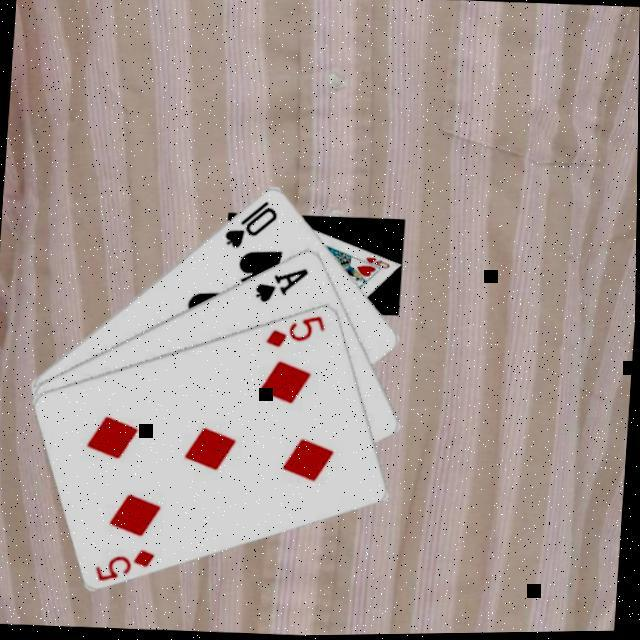10S: (220, 194, 282, 254)
5D: (94, 542, 160, 586), (262, 309, 328, 352)
AS: (250, 262, 312, 306)
